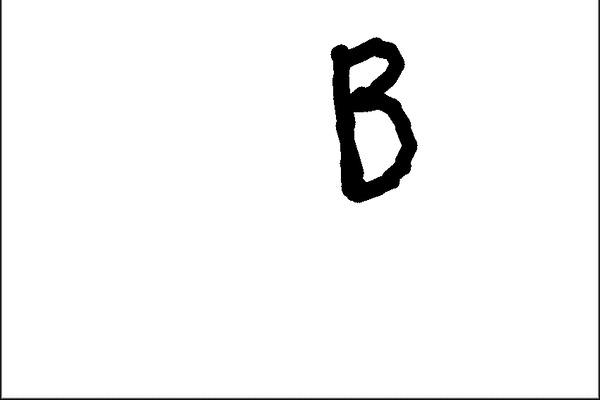B: (321, 28, 423, 208)
